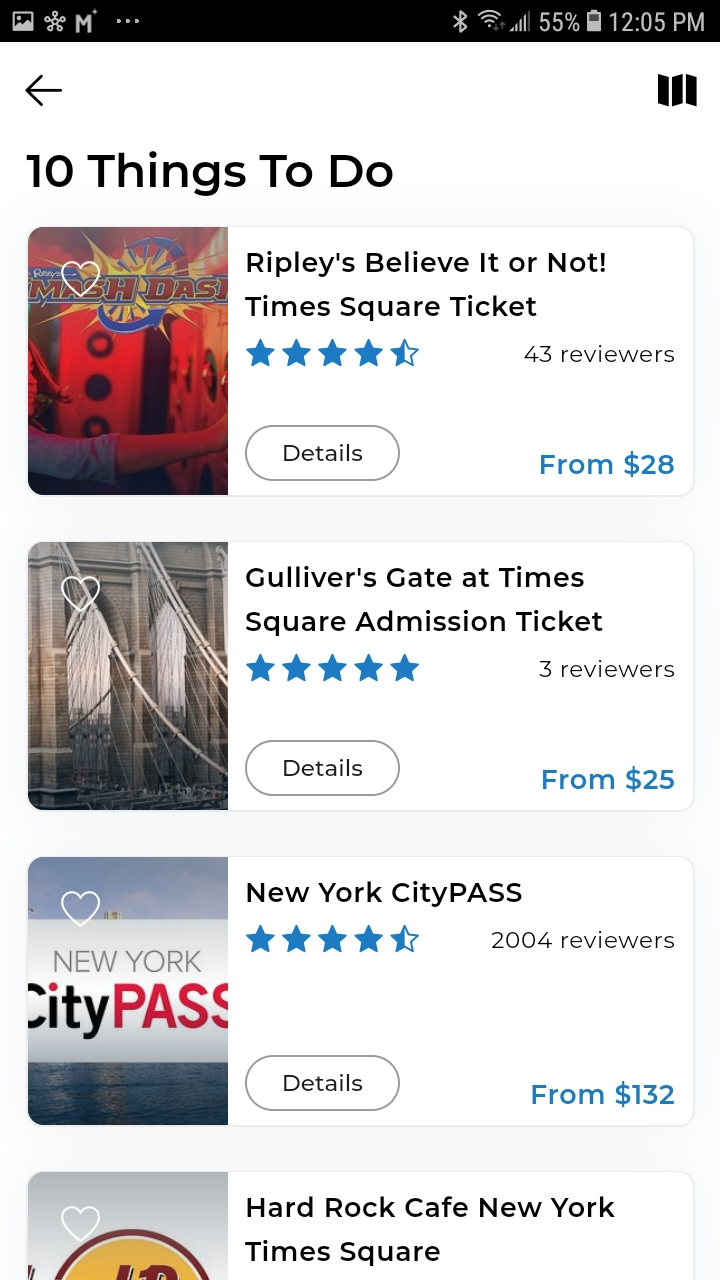Icon: (246, 339, 420, 368), (246, 925, 420, 953), (247, 654, 420, 682), (61, 576, 101, 613), (62, 1206, 101, 1242), (658, 73, 698, 108), (62, 892, 101, 927), (62, 262, 101, 297), (26, 75, 64, 107)
Image: (29, 227, 229, 496), (29, 857, 229, 1125), (29, 542, 229, 810), (29, 1172, 228, 1280)
Text: (245, 1196, 615, 1267), (245, 251, 606, 323), (246, 565, 603, 637), (27, 152, 393, 198), (246, 880, 522, 908), (532, 1081, 674, 1107), (540, 451, 674, 478), (491, 930, 675, 949), (543, 766, 674, 792), (524, 345, 675, 363), (539, 660, 674, 679)
TextButton: (245, 1055, 401, 1112), (245, 740, 401, 797), (245, 425, 401, 482)
UpperTaskBar: (1, 1, 720, 43)
